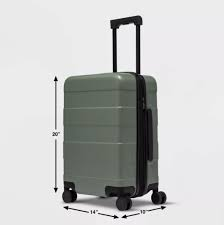suitcase: (58, 15, 166, 212)
